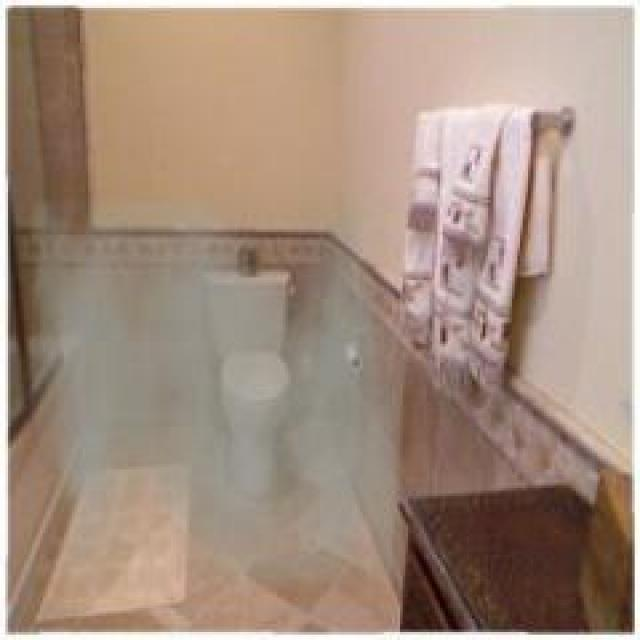Smoke: (31, 198, 404, 590)
